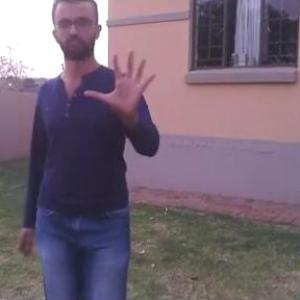follow_hand: (82, 46, 160, 118)
